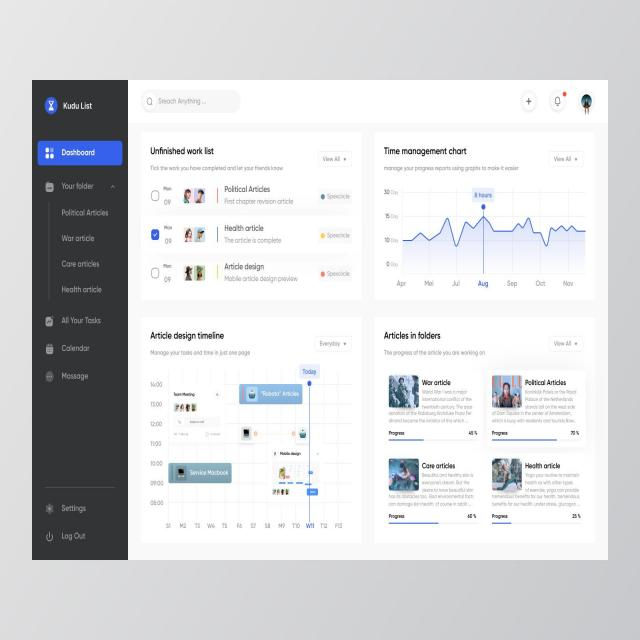button: (519, 88, 539, 115), (550, 89, 568, 112)
input: (142, 88, 241, 113)
select: (314, 336, 352, 351), (317, 151, 352, 166), (550, 151, 584, 166), (548, 336, 584, 350)
